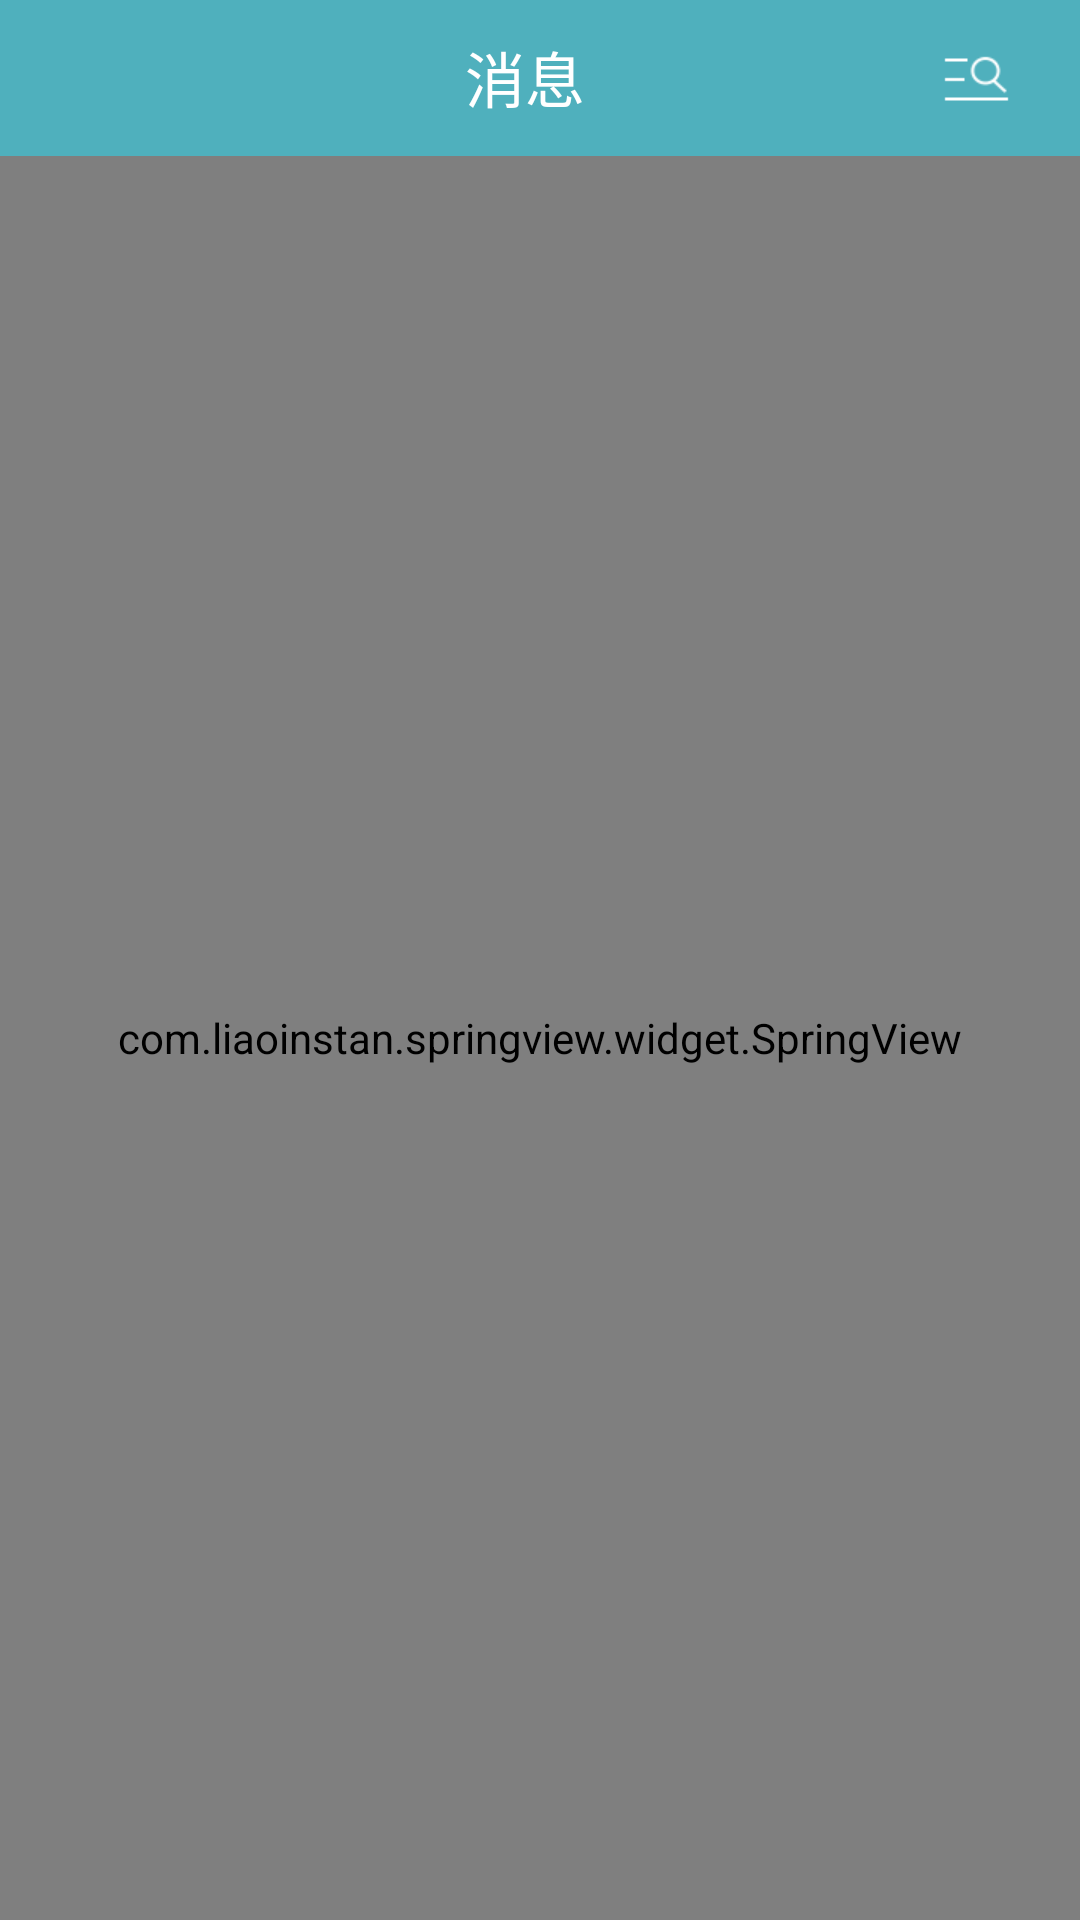

Point at icon controls on the screen. Image size 1080x1920, points as [x,y].
nearby search: [976,78]
